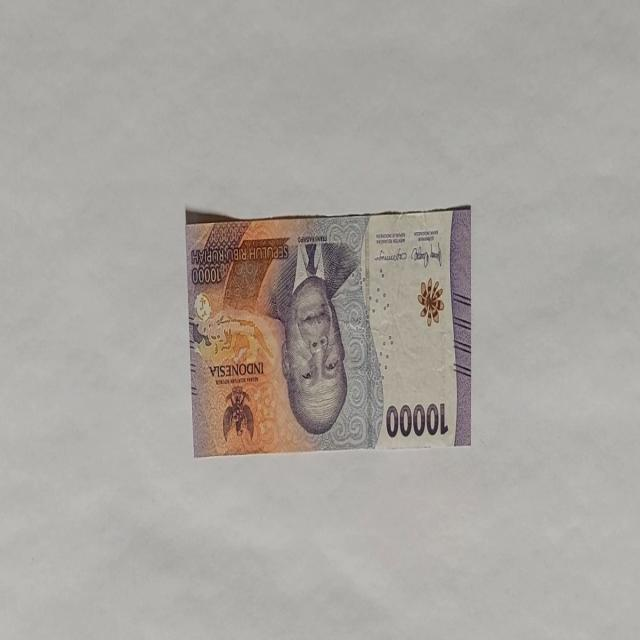sepuluh ribu rupiah: (184, 203, 472, 457)
